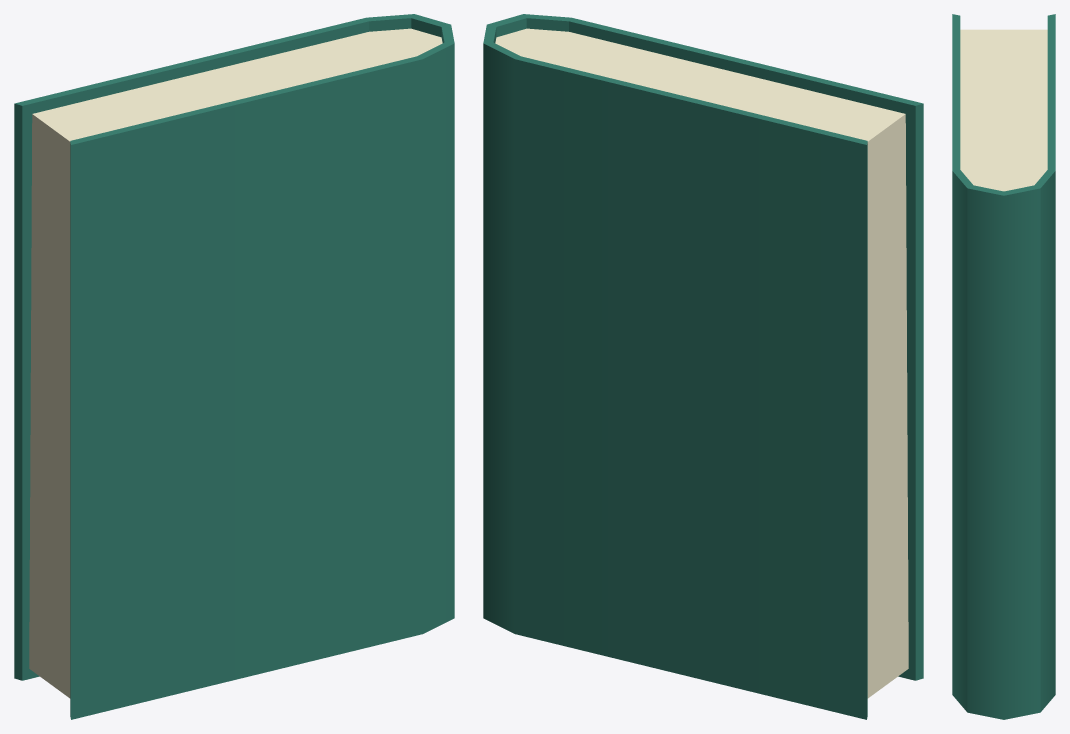
File: Libro.fbx
3 views of the same model, side by side, from view 1: azimuth 30°, elevation 25°; view 2: azimuth 150°, elevation 25°; view 3: azimuth 270°, elevation 25° (orthographic). The views are drawn at different scales.
Visible parts, largest first — view 1: Libro; view 2: Libro; view 3: Libro.
Part boxes in pixels (left/top/right/bottom): Libro: left=14, top=14, right=454, bottom=719; Libro: left=483, top=14, right=923, bottom=719; Libro: left=952, top=14, right=1055, bottom=719.
Size of the model in its own units: 63.24 by 85.05 by 15.22.
Materials: 1 (1 with a texture image).
